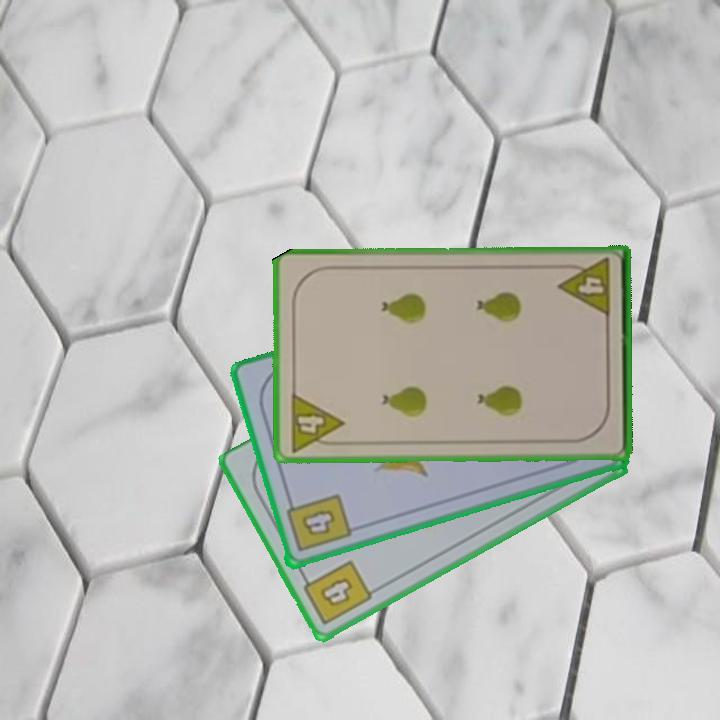4b: (297, 556, 375, 629), (282, 491, 353, 556)
4p: (286, 389, 346, 454), (556, 255, 613, 320)
